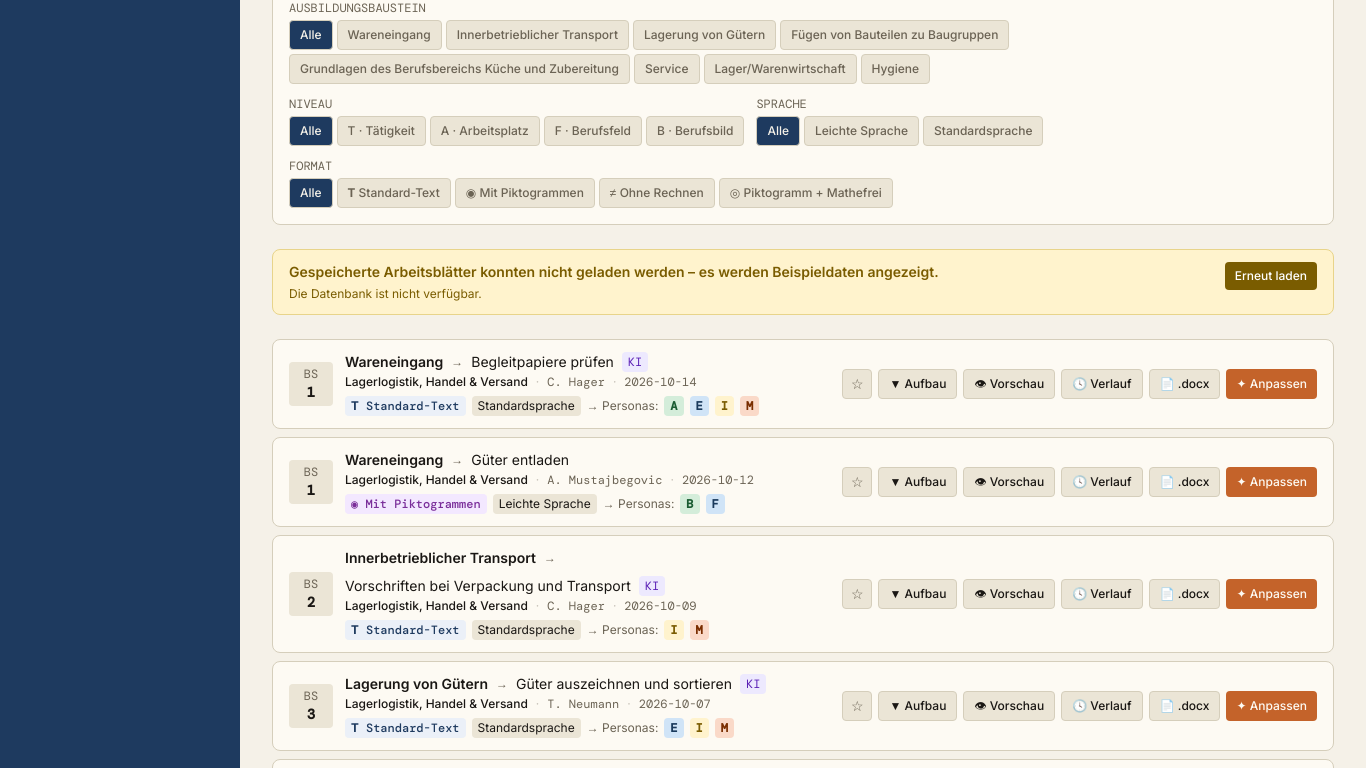
Test case: Arbeitsblätter › klappt den Aufbau mit allen vier Niveaustufen auf
This screenshot has width=1366, height=768.
(page scrolled)
Check: the element "Begleitpapiere prüfen" is shown, box left=272, top=339, right=1334, bottom=429
Click the button "▼ Aufbau" in the row of "2026-10-14". click: click(918, 384)
box: left=878, top=369, right=957, bottom=399
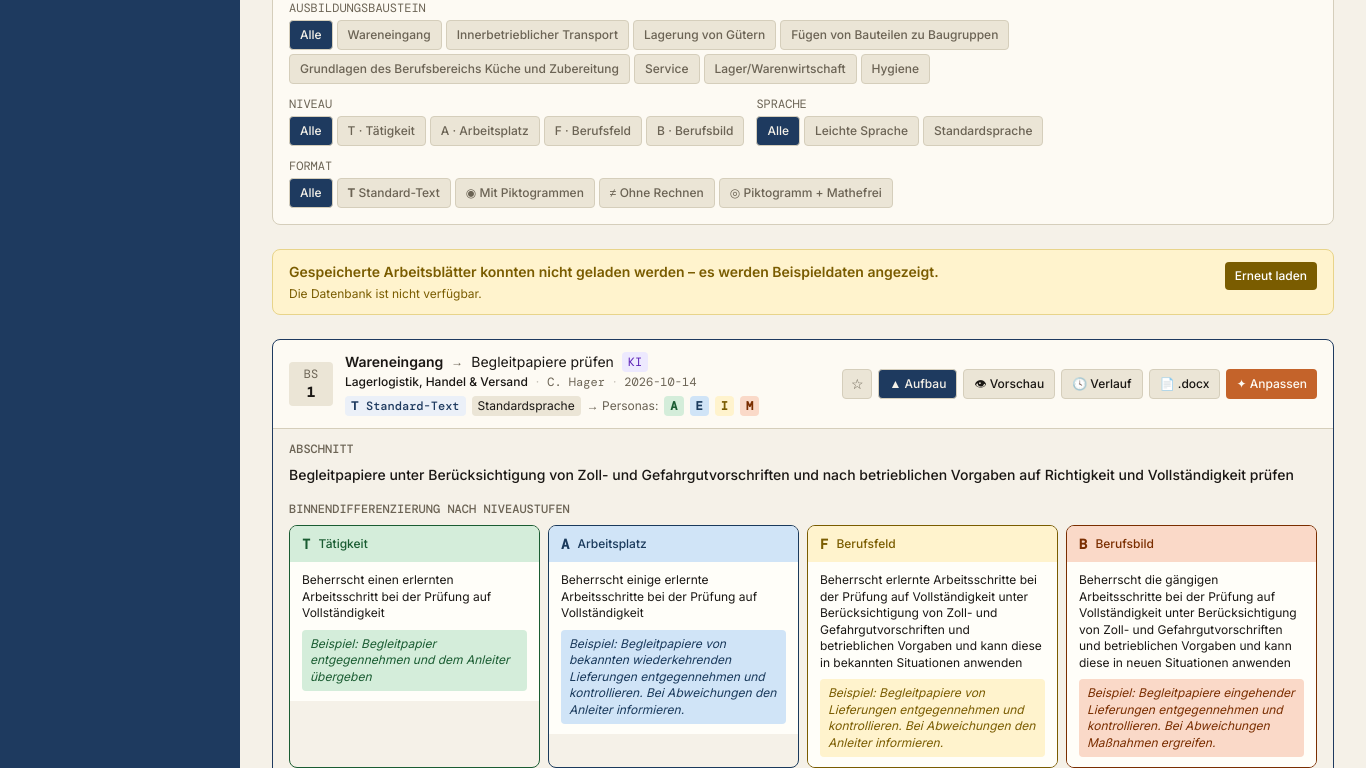
Check: the text "BINNENDIFFERENZIERUNG NACH NIVEAUSTUFEN" is shown, box left=289, top=501, right=570, bottom=517
Check: the text "Beispiel:" is shown 4 times, box left=302, top=630, right=527, bottom=691; left=561, top=630, right=786, bottom=724; left=820, top=679, right=1045, bottom=757; left=1079, top=679, right=1304, bottom=757
